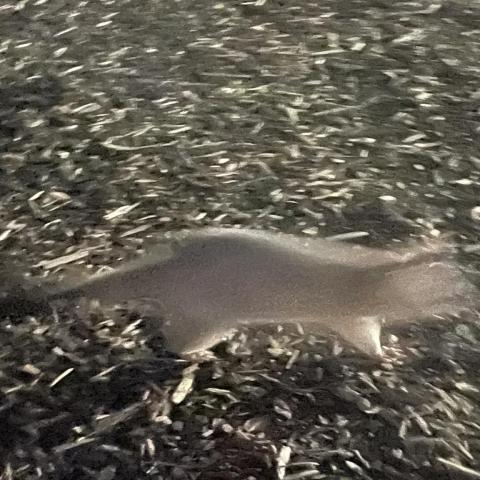small_animal: (37, 224, 474, 364)
